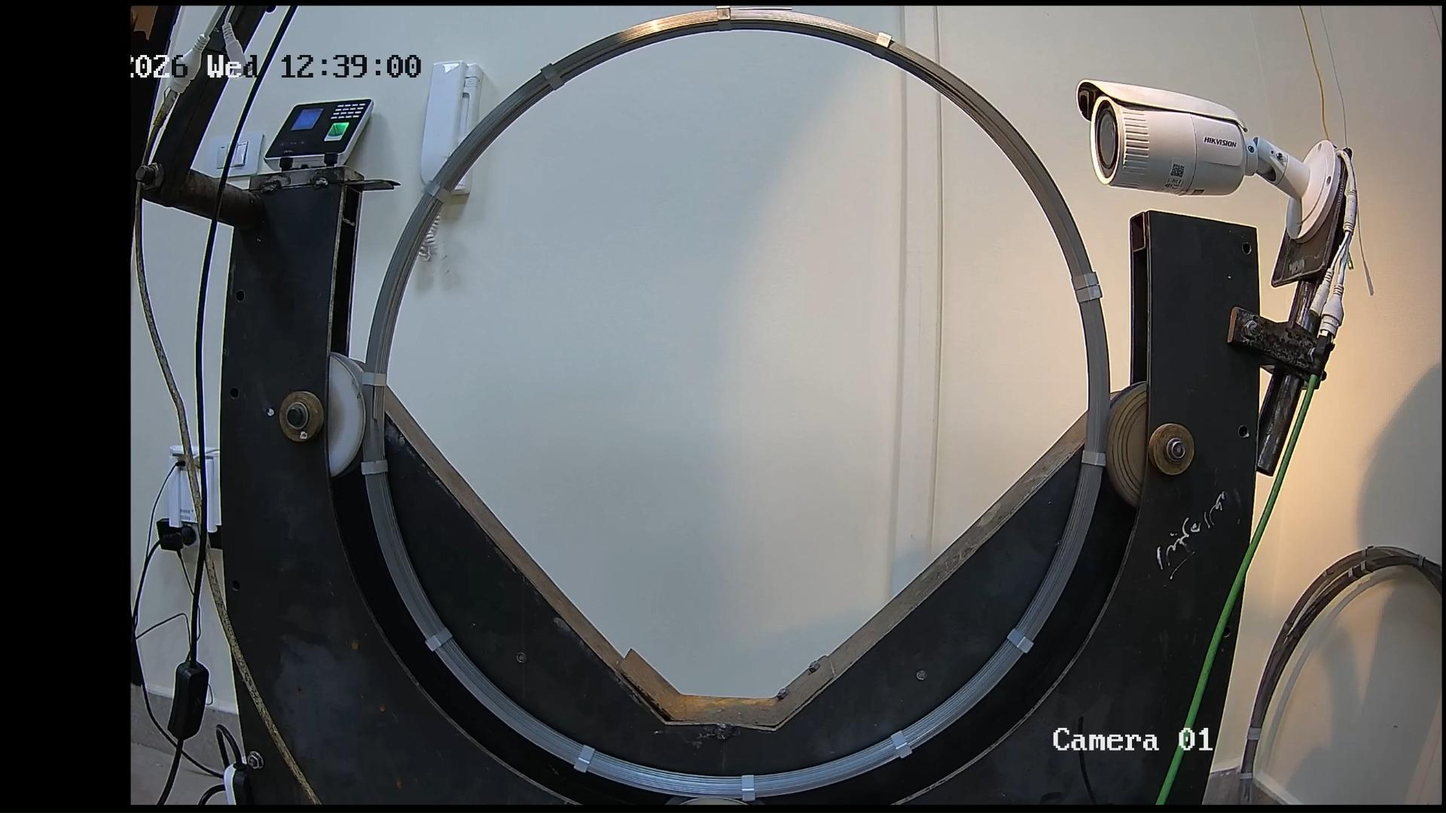Clamp: (868, 32, 892, 60), (1008, 629, 1032, 653), (541, 64, 564, 89), (426, 628, 452, 650), (891, 732, 911, 757), (575, 746, 594, 772), (423, 181, 448, 200), (1072, 272, 1098, 289), (360, 459, 387, 474), (741, 775, 755, 801), (1077, 288, 1103, 301), (1082, 452, 1106, 466), (718, 6, 731, 29), (362, 373, 386, 385)
